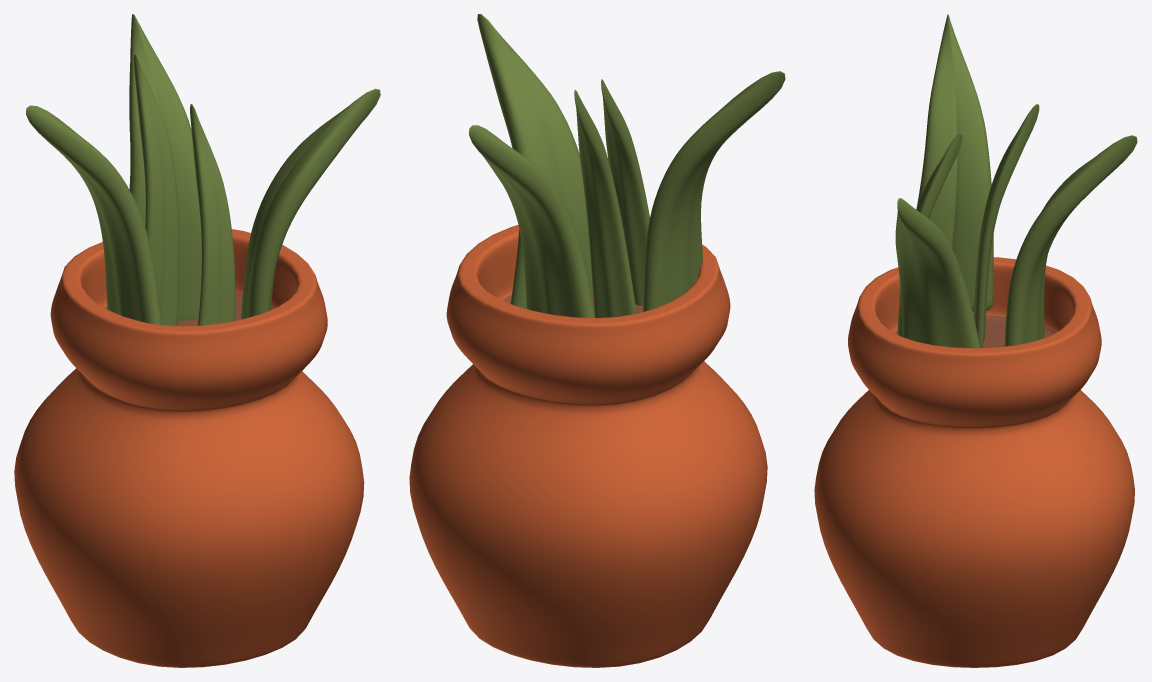
Rendered from planta.glb.
3 renders of one model, left to right at view 1: azimuth 30°, elevation 25°; view 2: azimuth 150°, elevation 25°; view 3: azimuth 270°, elevation 25°, orthographic. The views are drawn at different scales.
Visible parts, largest first — view 1: Cube, Plane.001, Plane, Plane.004, Plane.003, Plane.002; view 2: Cube, Plane.001, Plane, Plane.004, Plane.003, Plane.002; view 3: Cube, Plane.001, Plane.004, Plane, Plane.003, Plane.002.
Part boxes in pixels (bbox=[...]): Cube: bbox=[14, 229, 364, 667]; Plane.001: bbox=[26, 105, 162, 324]; Plane: bbox=[129, 14, 201, 321]; Plane.004: bbox=[241, 88, 380, 319]; Plane.003: bbox=[134, 54, 179, 325]; Plane.002: bbox=[190, 104, 235, 325]; Cube: bbox=[409, 225, 767, 667]; Plane.001: bbox=[643, 71, 785, 311]; Plane: bbox=[469, 125, 594, 317]; Plane.004: bbox=[477, 14, 593, 308]; Plane.003: bbox=[574, 90, 636, 317]; Plane.002: bbox=[601, 79, 649, 305]; Cube: bbox=[814, 257, 1134, 667]; Plane.001: bbox=[916, 14, 993, 311]; Plane.004: bbox=[895, 198, 980, 348]; Plane: bbox=[1004, 135, 1137, 346]; Plane.003: bbox=[973, 104, 1039, 347]; Plane.002: bbox=[897, 132, 962, 336].
Size of the model in its own units: 2.76 by 4.56 by 2.51.
